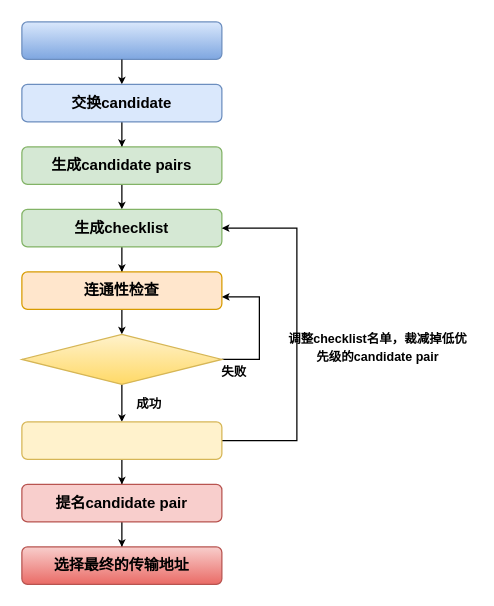
This 494x606 diagram has some shape labels left out. Each missing label, with the centre of its shape:
"加入到validlist" belongs at [121,440].
"收集candidate" belongs at [121,40].
"是否成功" belongs at [121,358].
